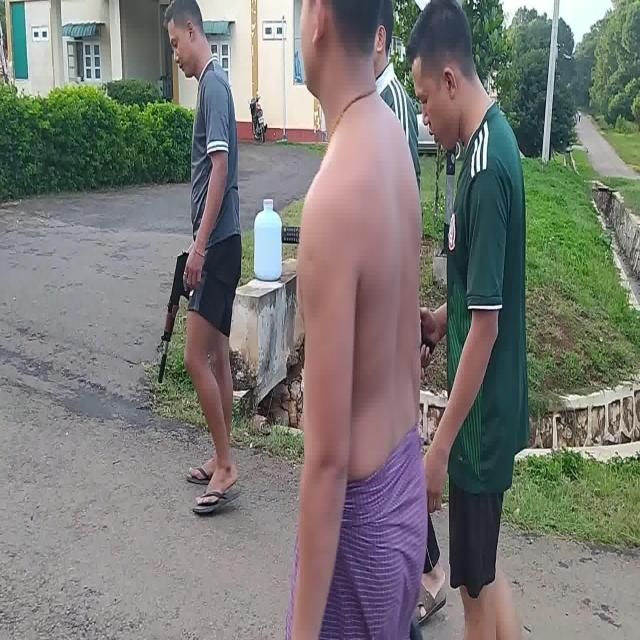gun: (157, 252, 190, 383), (421, 332, 434, 364)
